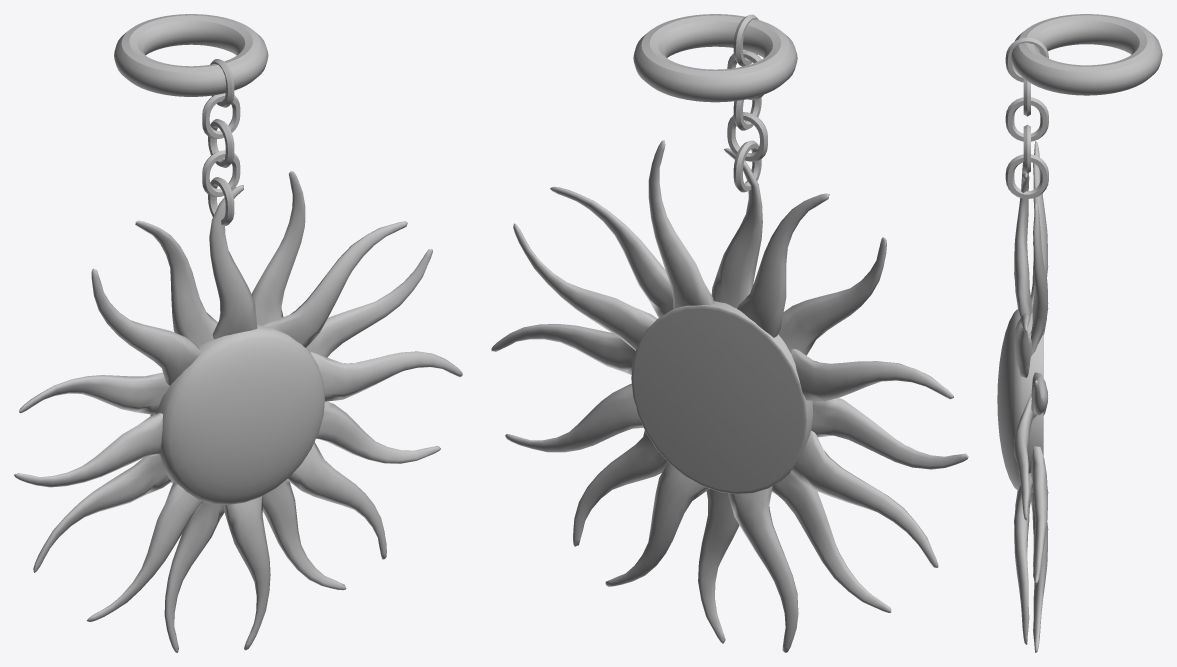
The model's file is Charm-Sun.fbx.
3 views of the same model, side by side, from view 1: azimuth 30°, elevation 25°; view 2: azimuth 150°, elevation 25°; view 3: azimuth 270°, elevation 25° (orthographic). The views are drawn at different scales.
Parts seen in each view (by area): view 1: Sun', CharmSun, Charm.005; view 2: Sun', CharmSun, Charm.005; view 3: Sun', CharmSun, Charm.005.
Part boxes in pixels (<box>): Sun': <box>14,171,462,652</box>; CharmSun: <box>114,14,268,96</box>; Charm.005: <box>202,59,240,225</box>; Sun': <box>491,140,968,652</box>; CharmSun: <box>633,14,797,102</box>; Charm.005: <box>727,14,767,192</box>; Sun': <box>997,141,1048,652</box>; CharmSun: <box>1011,14,1162,95</box>; Charm.005: <box>1005,37,1048,198</box>.
Size of the model in its own units: 49.3 by 62.57 by 16.01.
